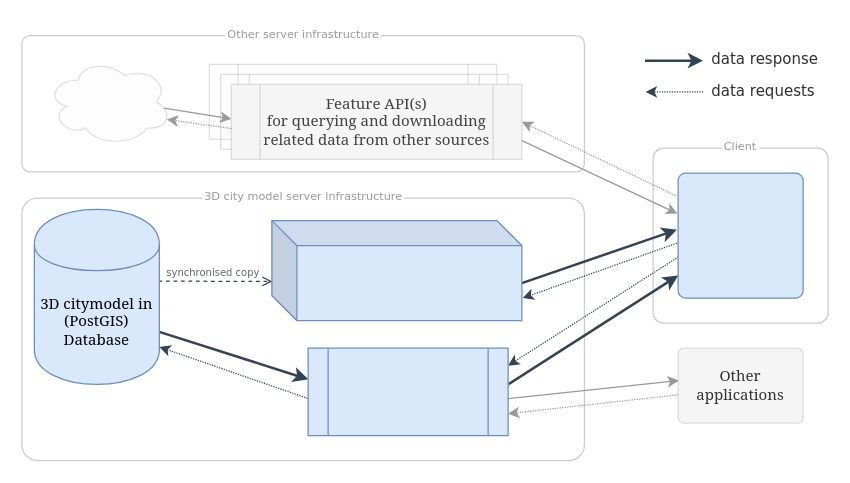
Image size: 850x483. Some labels were removed from this diagram. The box of each missing label's shape, as (x1, y1, x2, y2) in pixels:
Feature API for querying and downloading 3D Citymodel objects: (307, 347, 508, 436)
Static geometry files optimised for consumption by viewer: (271, 219, 522, 321)
Viewer application: (677, 172, 803, 298)
